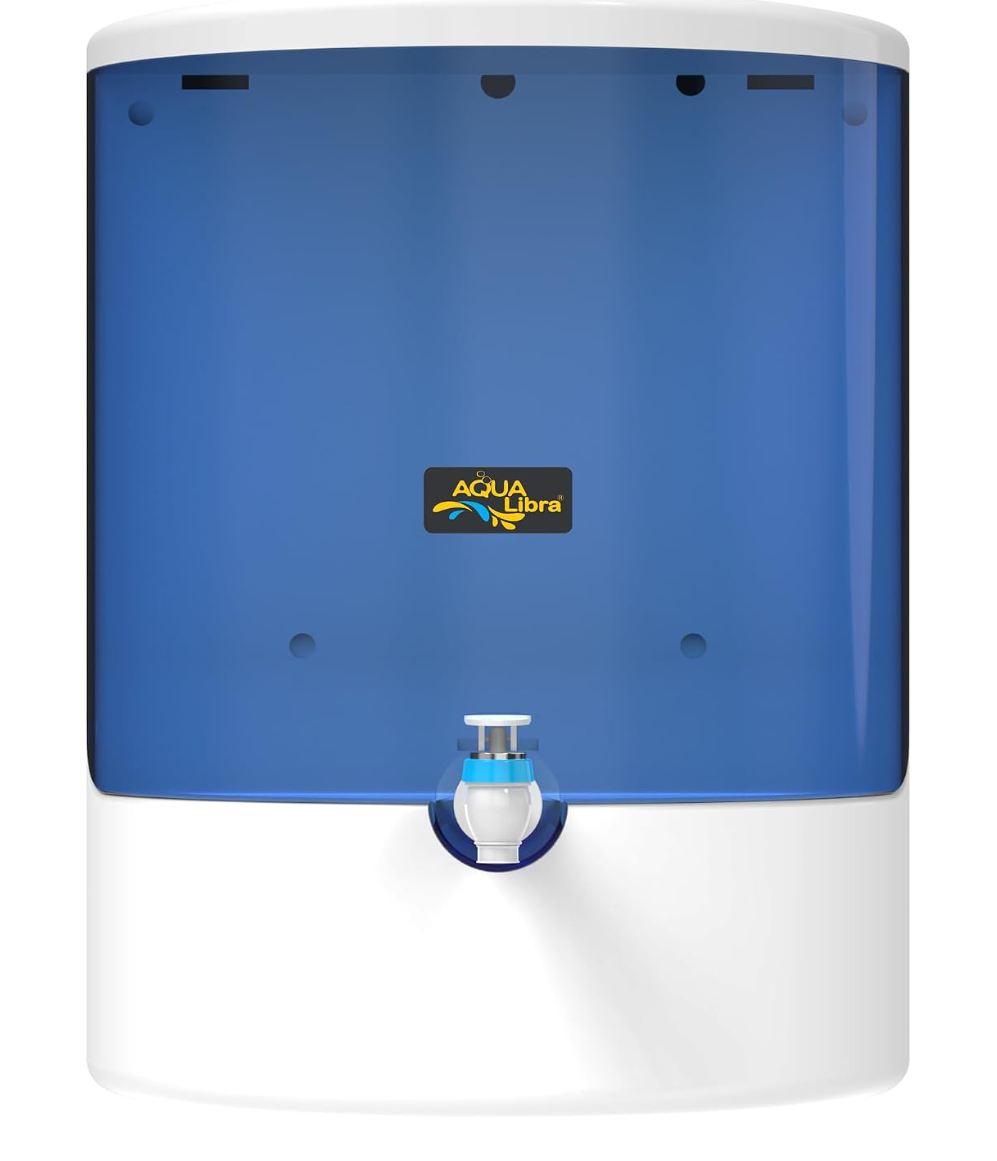water purifier: (69, 2, 928, 1129)
